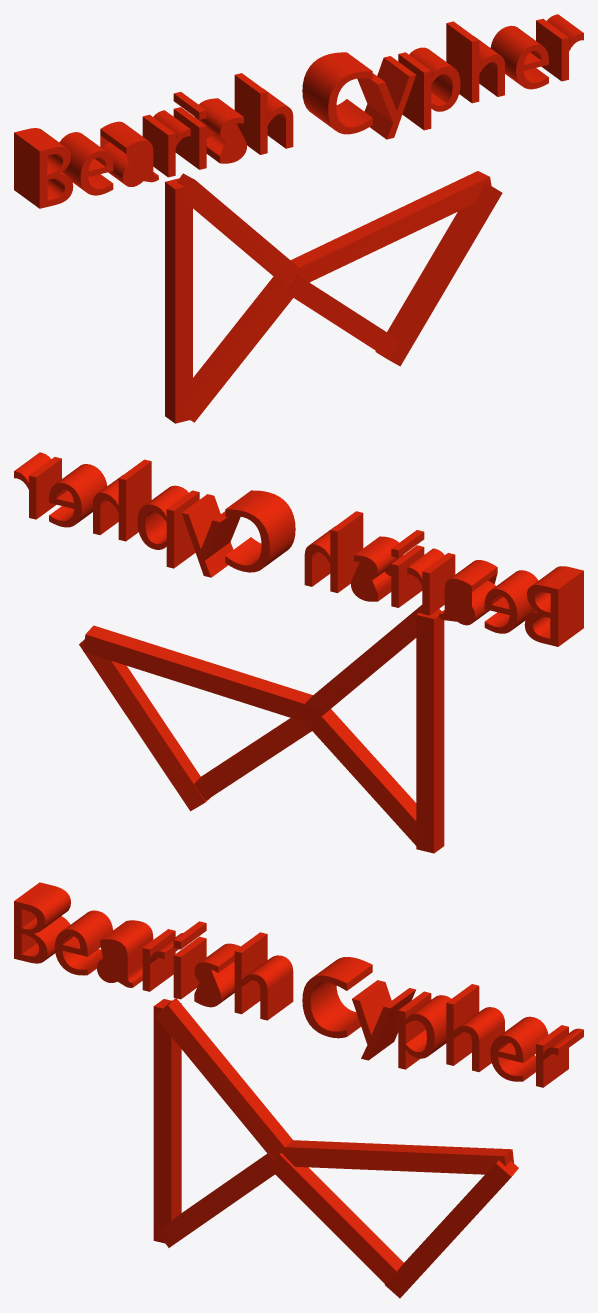
File: cypher.fbx
3 views of the same model, one above another, from view 1: azimuth 30°, elevation 25°; view 2: azimuth 150°, elevation 25°; view 3: azimuth 330°, elevation 25° (orthographic).
Parts seen in each view (by area): view 1: typeMesh2; view 2: typeMesh2; view 3: typeMesh2.
Part boxes in pixels (<box>): typeMesh2: <box>14,14,583,423</box>; typeMesh2: <box>14,452,583,853</box>; typeMesh2: <box>14,882,583,1298</box>.
Size of the model in its own units: 30.54 by 17.14 by 3.11.
